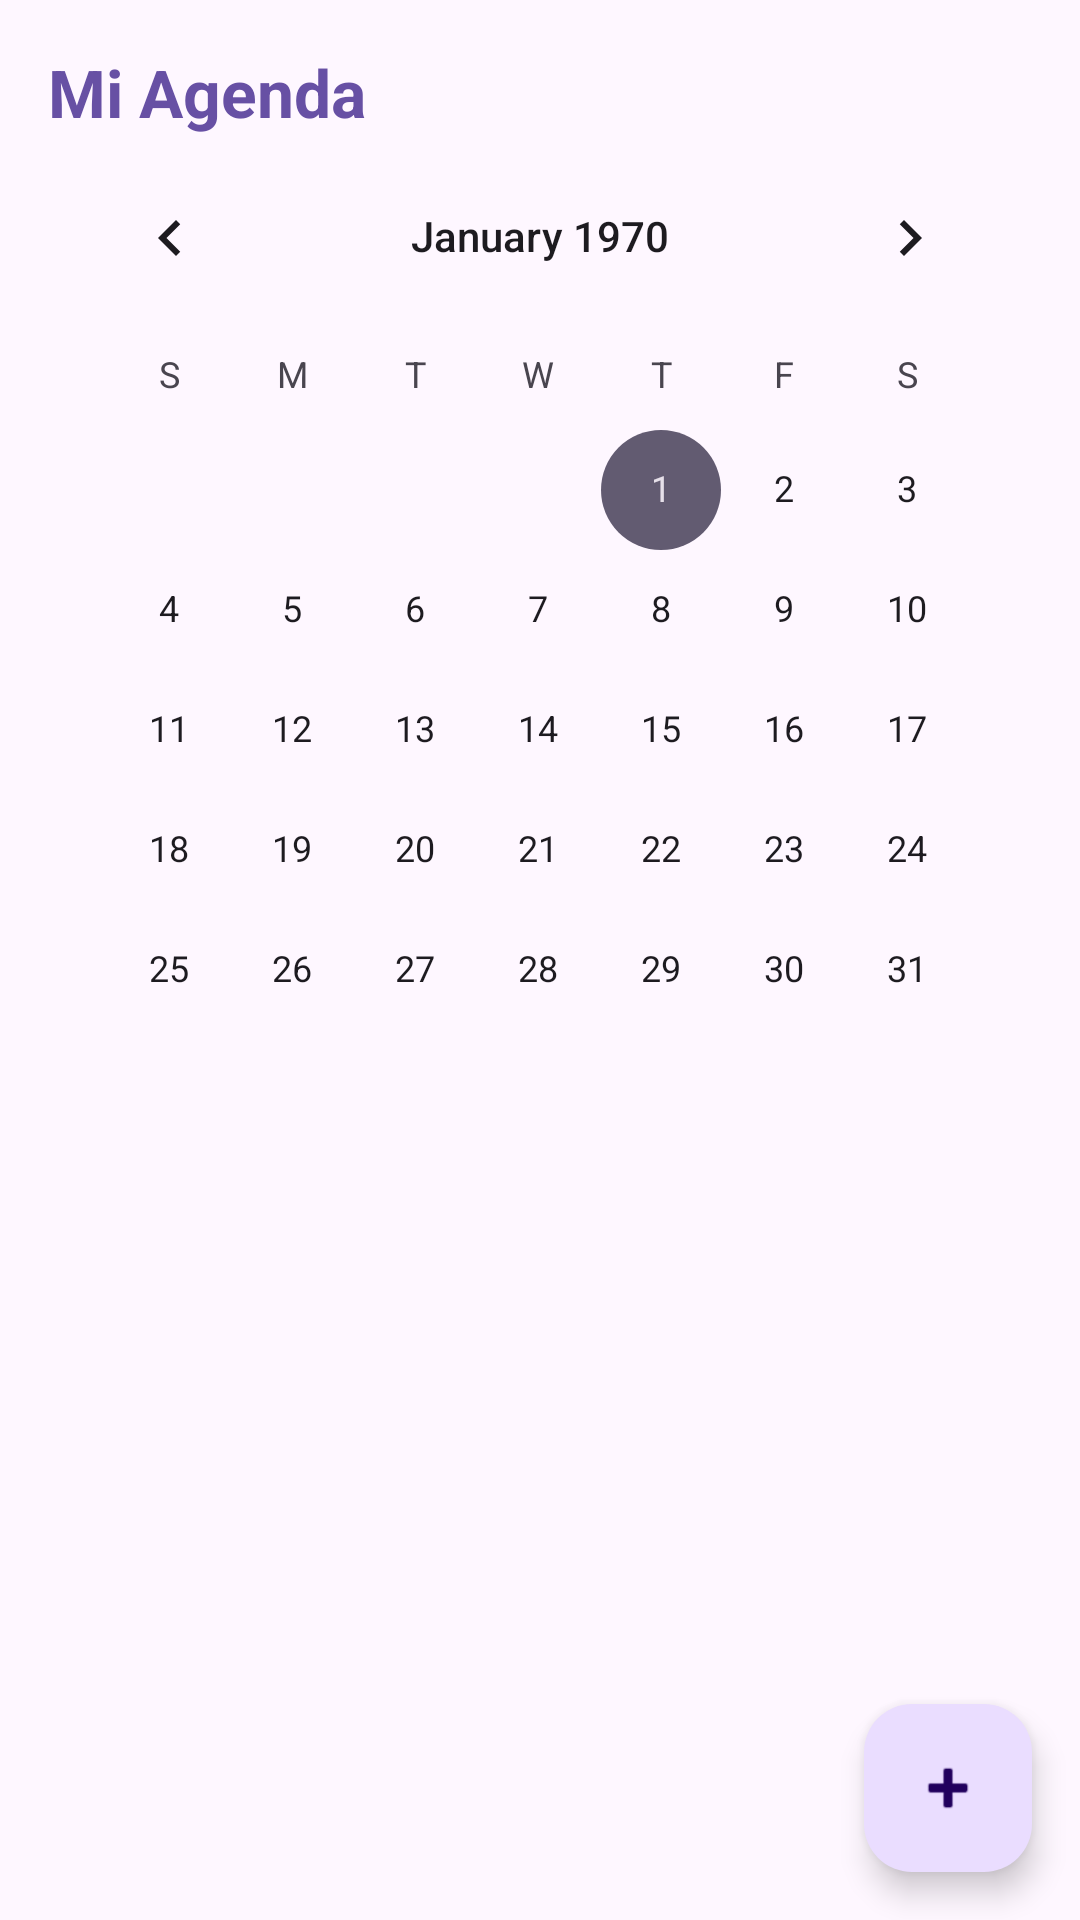

Locate icon controls on the screen. Image size 1080×1920, boxes as (left=x1, top=y1, right=x2, bottom=y2).
Agregar anotación: (left=864, top=1704, right=1032, bottom=1872)
